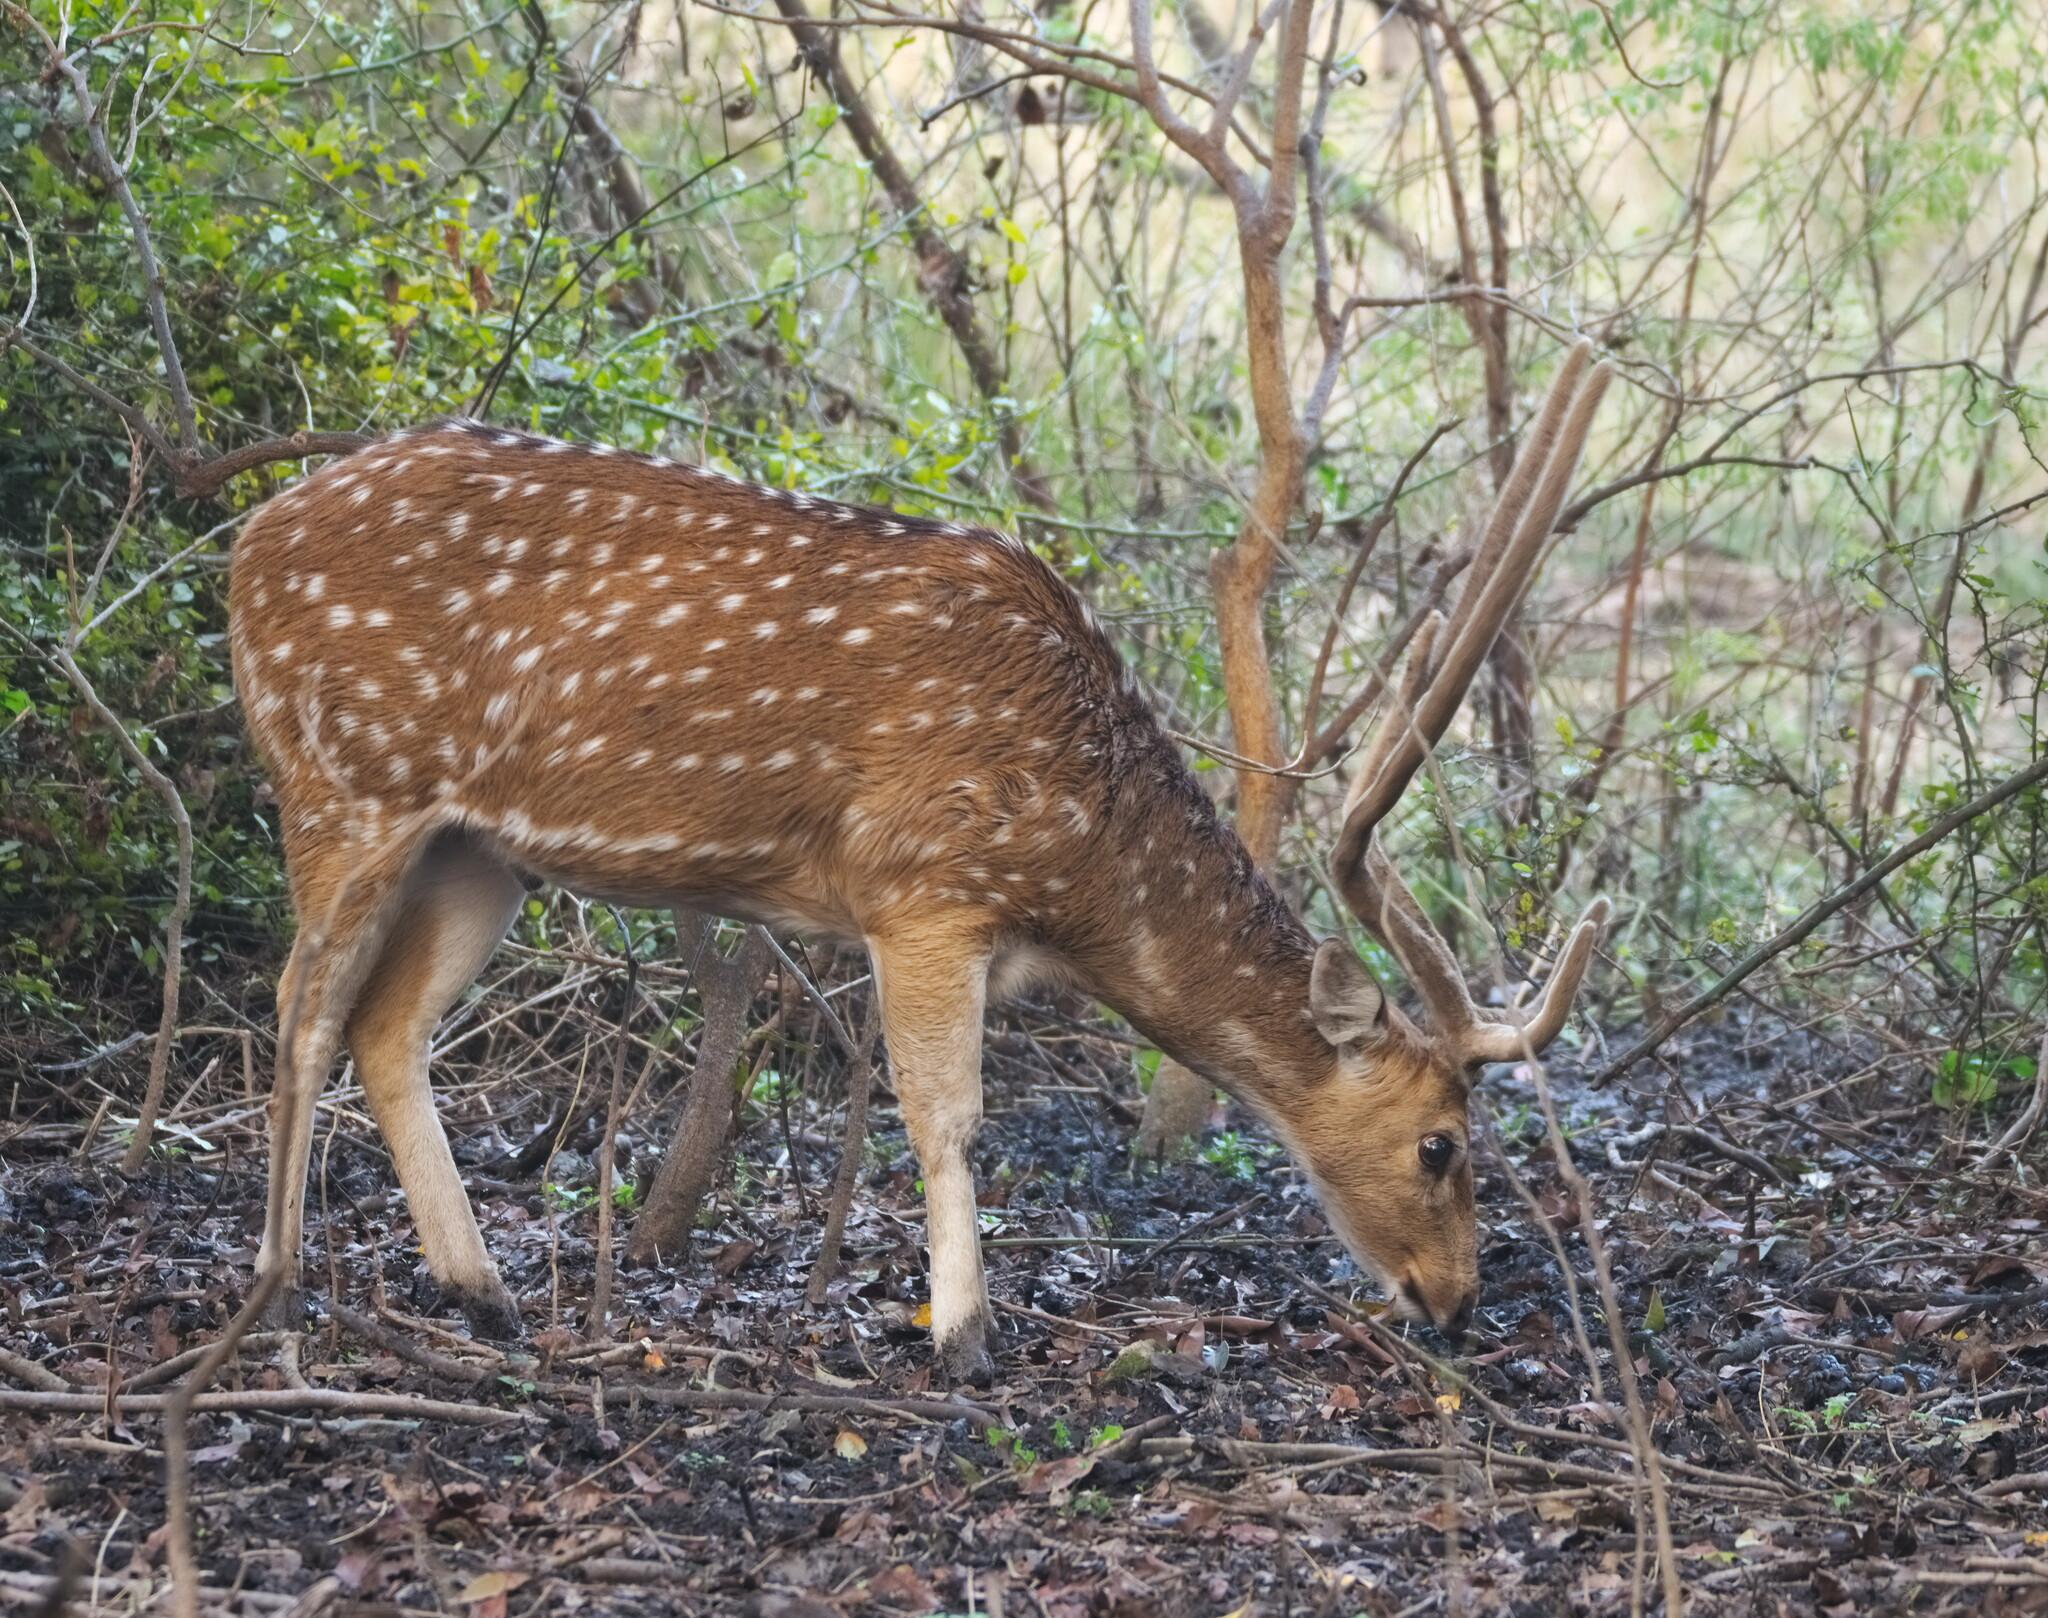Deer: (228, 353, 1609, 1370)
